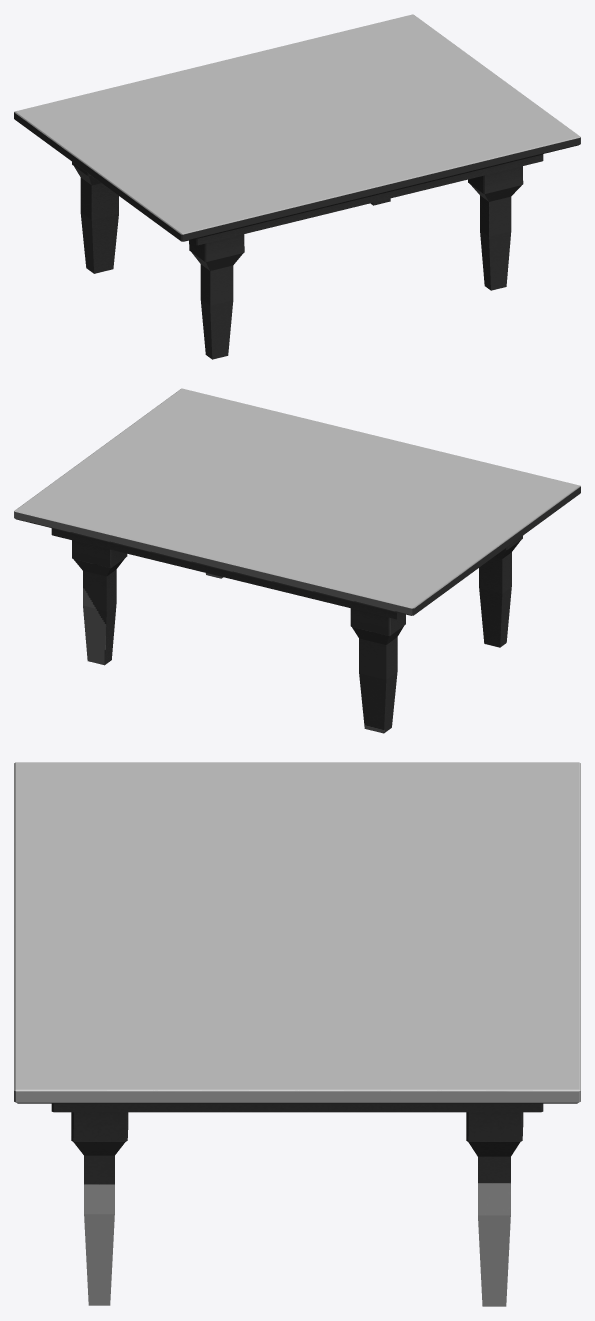
File: table_lightmap.dae
The picture shows the model from 3 angles, top to bottom: view 1: azimuth 30°, elevation 25°; view 2: azimuth 150°, elevation 25°; view 3: azimuth 270°, elevation 25°; orthographic projection. The views are drawn at different scales.
Visible parts, largest first — view 1: Cube; view 2: Cube; view 3: Cube.
Part boxes in pixels (x1,y1,x2,y2): Cube: (14,14,580,359); Cube: (14,388,580,733); Cube: (14,762,580,1306).
Size of the model in its own units: 10.45 by 7.61 by 3.85.
Materials: 1 (1 with a texture image).
